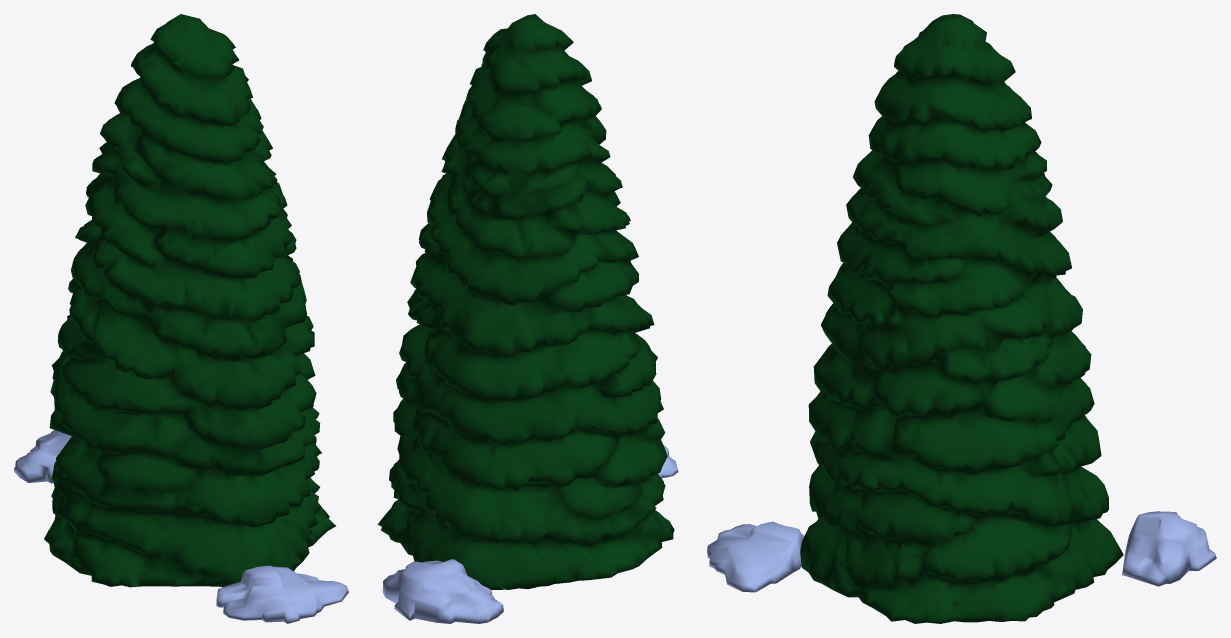
File: forest-tree15-colored-lowpoly.glb
3 views of the same model, side by side, from view 1: azimuth 30°, elevation 25°; view 2: azimuth 150°, elevation 25°; view 3: azimuth 270°, elevation 25° (orthographic). The views are drawn at different scales.
Parts seen in each view (by area): view 1: Tree_large_rocks_scanned.001; view 2: Tree_large_rocks_scanned.001; view 3: Tree_large_rocks_scanned.001.
Part boxes in pixels (box(x1,y1,x2,y2)): Tree_large_rocks_scanned.001: box(14, 14, 348, 623); Tree_large_rocks_scanned.001: box(377, 14, 678, 623); Tree_large_rocks_scanned.001: box(707, 14, 1216, 623).
Size of the model in its own units: 2.55 by 5.09 by 4.33.
